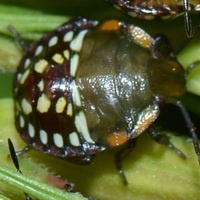insect: (13, 17, 185, 186), (132, 148, 199, 199)
